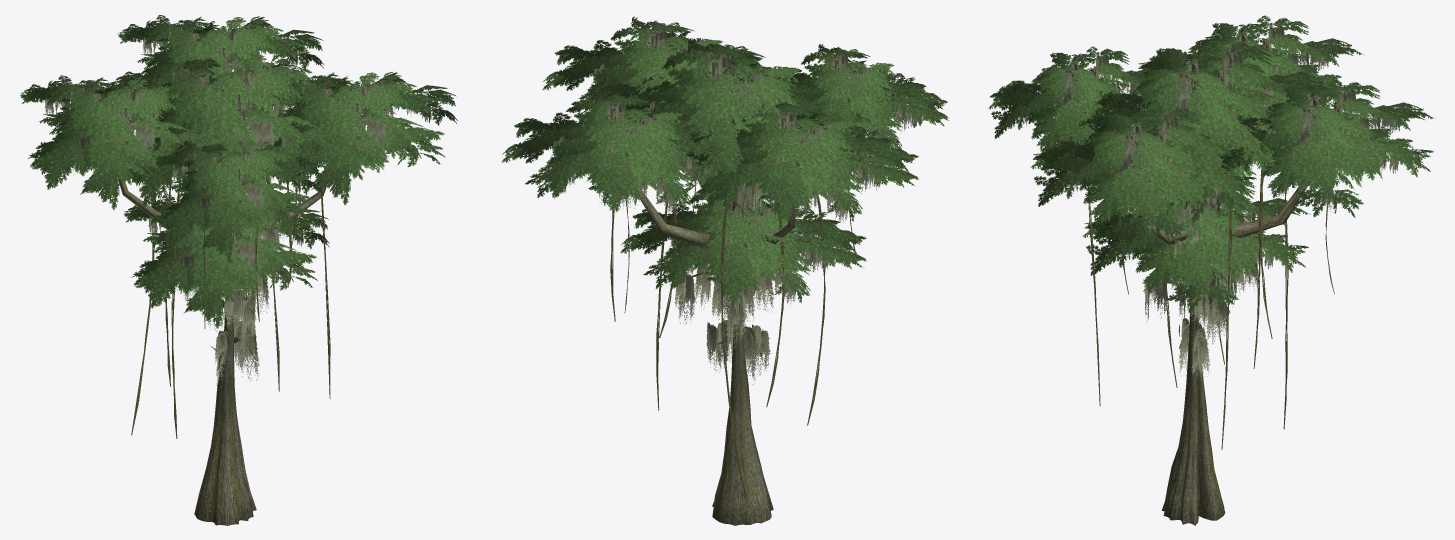
The model's file is jungle-tree.glb.
3 views of the same model, side by side, from view 1: azimuth 30°, elevation 25°; view 2: azimuth 150°, elevation 25°; view 3: azimuth 270°, elevation 25° (orthographic). The views are drawn at different scales.
Parts seen in each view (by area): view 1: Object_66, Object_51, Object_10, Object_13, Object_22, Object_86; view 2: Object_66, Object_51, Object_13, Object_10, Object_22, Object_86; view 3: Object_66, Object_51, Object_10, Object_13, Object_22, Object_86.
Part boxes in pixels (bbox=[...]): Object_66: bbox=[20, 15, 457, 328]; Object_51: bbox=[110, 53, 351, 208]; Object_10: bbox=[194, 75, 256, 525]; Object_13: bbox=[121, 54, 371, 389]; Object_22: bbox=[131, 173, 330, 438]; Object_86: bbox=[117, 178, 326, 233]; Object_66: bbox=[502, 16, 948, 303]; Object_51: bbox=[589, 38, 873, 206]; Object_13: bbox=[597, 66, 865, 385]; Object_10: bbox=[684, 67, 773, 525]; Object_22: bbox=[610, 179, 855, 500]; Object_86: bbox=[638, 175, 795, 248]; Object_66: bbox=[988, 15, 1434, 313]; Object_51: bbox=[1069, 39, 1335, 224]; Object_10: bbox=[1143, 69, 1225, 525]; Object_13: bbox=[1057, 52, 1369, 378]; Object_22: bbox=[1087, 160, 1334, 449]; Object_86: bbox=[1141, 138, 1308, 244].
Bounding box in the file's own units: 29.58 × 31.51 × 28.31.
6 materials, 6 textured.
